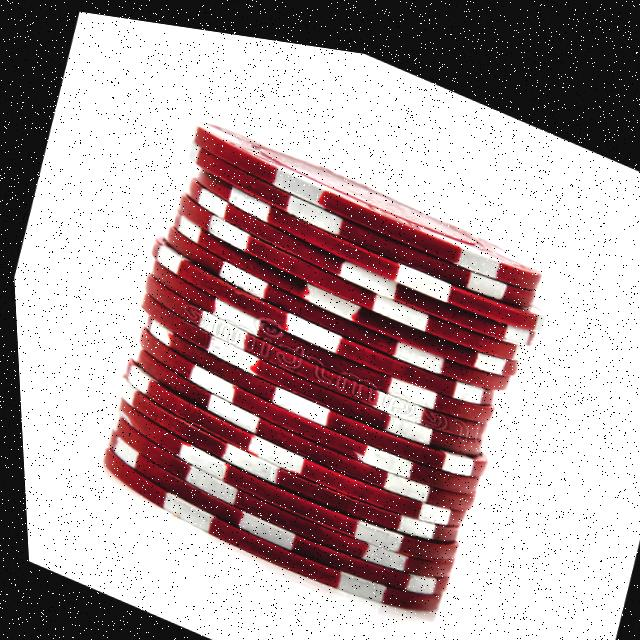Chip: (57, 68, 584, 640)
